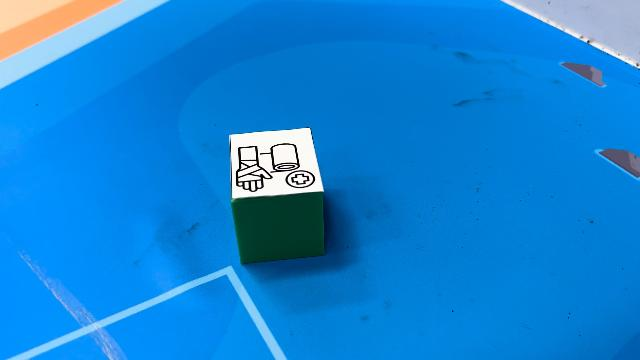bandage: (229, 127, 325, 264)
